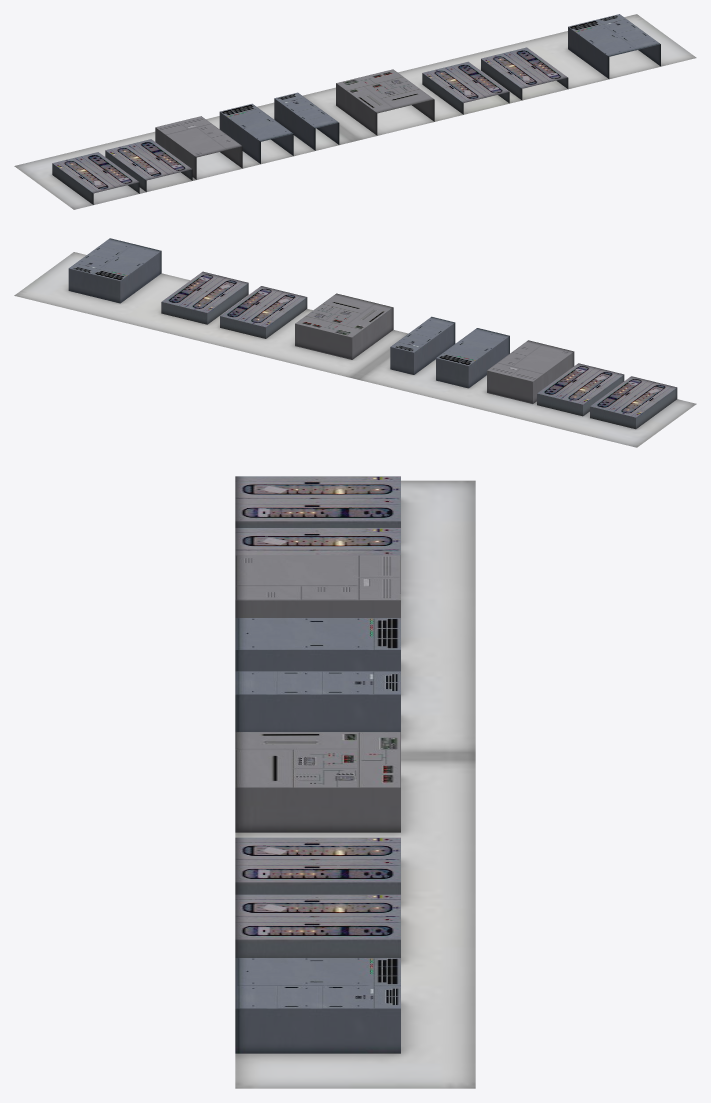
Rendered from murhaut_av_tri.fbx.
3 renders of one model, top to bottom at view 1: azimuth 30°, elevation 25°; view 2: azimuth 150°, elevation 25°; view 3: azimuth 270°, elevation 25°, orthographic. The views are drawn at different scales.
Visible parts, largest first — view 1: ShapeIndexedFaceSet_005, ShapeIndexedFaceSet_004, ShapeIndexedFaceSet_001; view 2: ShapeIndexedFaceSet_005, ShapeIndexedFaceSet_004, ShapeIndexedFaceSet_001; view 3: ShapeIndexedFaceSet_005, ShapeIndexedFaceSet_004, ShapeIndexedFaceSet_001.
Part boxes in pixels (x1,y1,x2,y2): ShapeIndexedFaceSet_005: [52, 47, 568, 204]; ShapeIndexedFaceSet_004: [14, 14, 696, 209]; ShapeIndexedFaceSet_001: [219, 14, 660, 163]; ShapeIndexedFaceSet_005: [161, 271, 677, 429]; ShapeIndexedFaceSet_004: [14, 252, 696, 447]; ShapeIndexedFaceSet_001: [68, 238, 509, 388]; ShapeIndexedFaceSet_005: [235, 476, 400, 957]; ShapeIndexedFaceSet_004: [235, 480, 475, 1088]; ShapeIndexedFaceSet_001: [235, 618, 400, 1053].
Bounding box in the file's own units: 17.4 × 0.6001 × 2.9.
